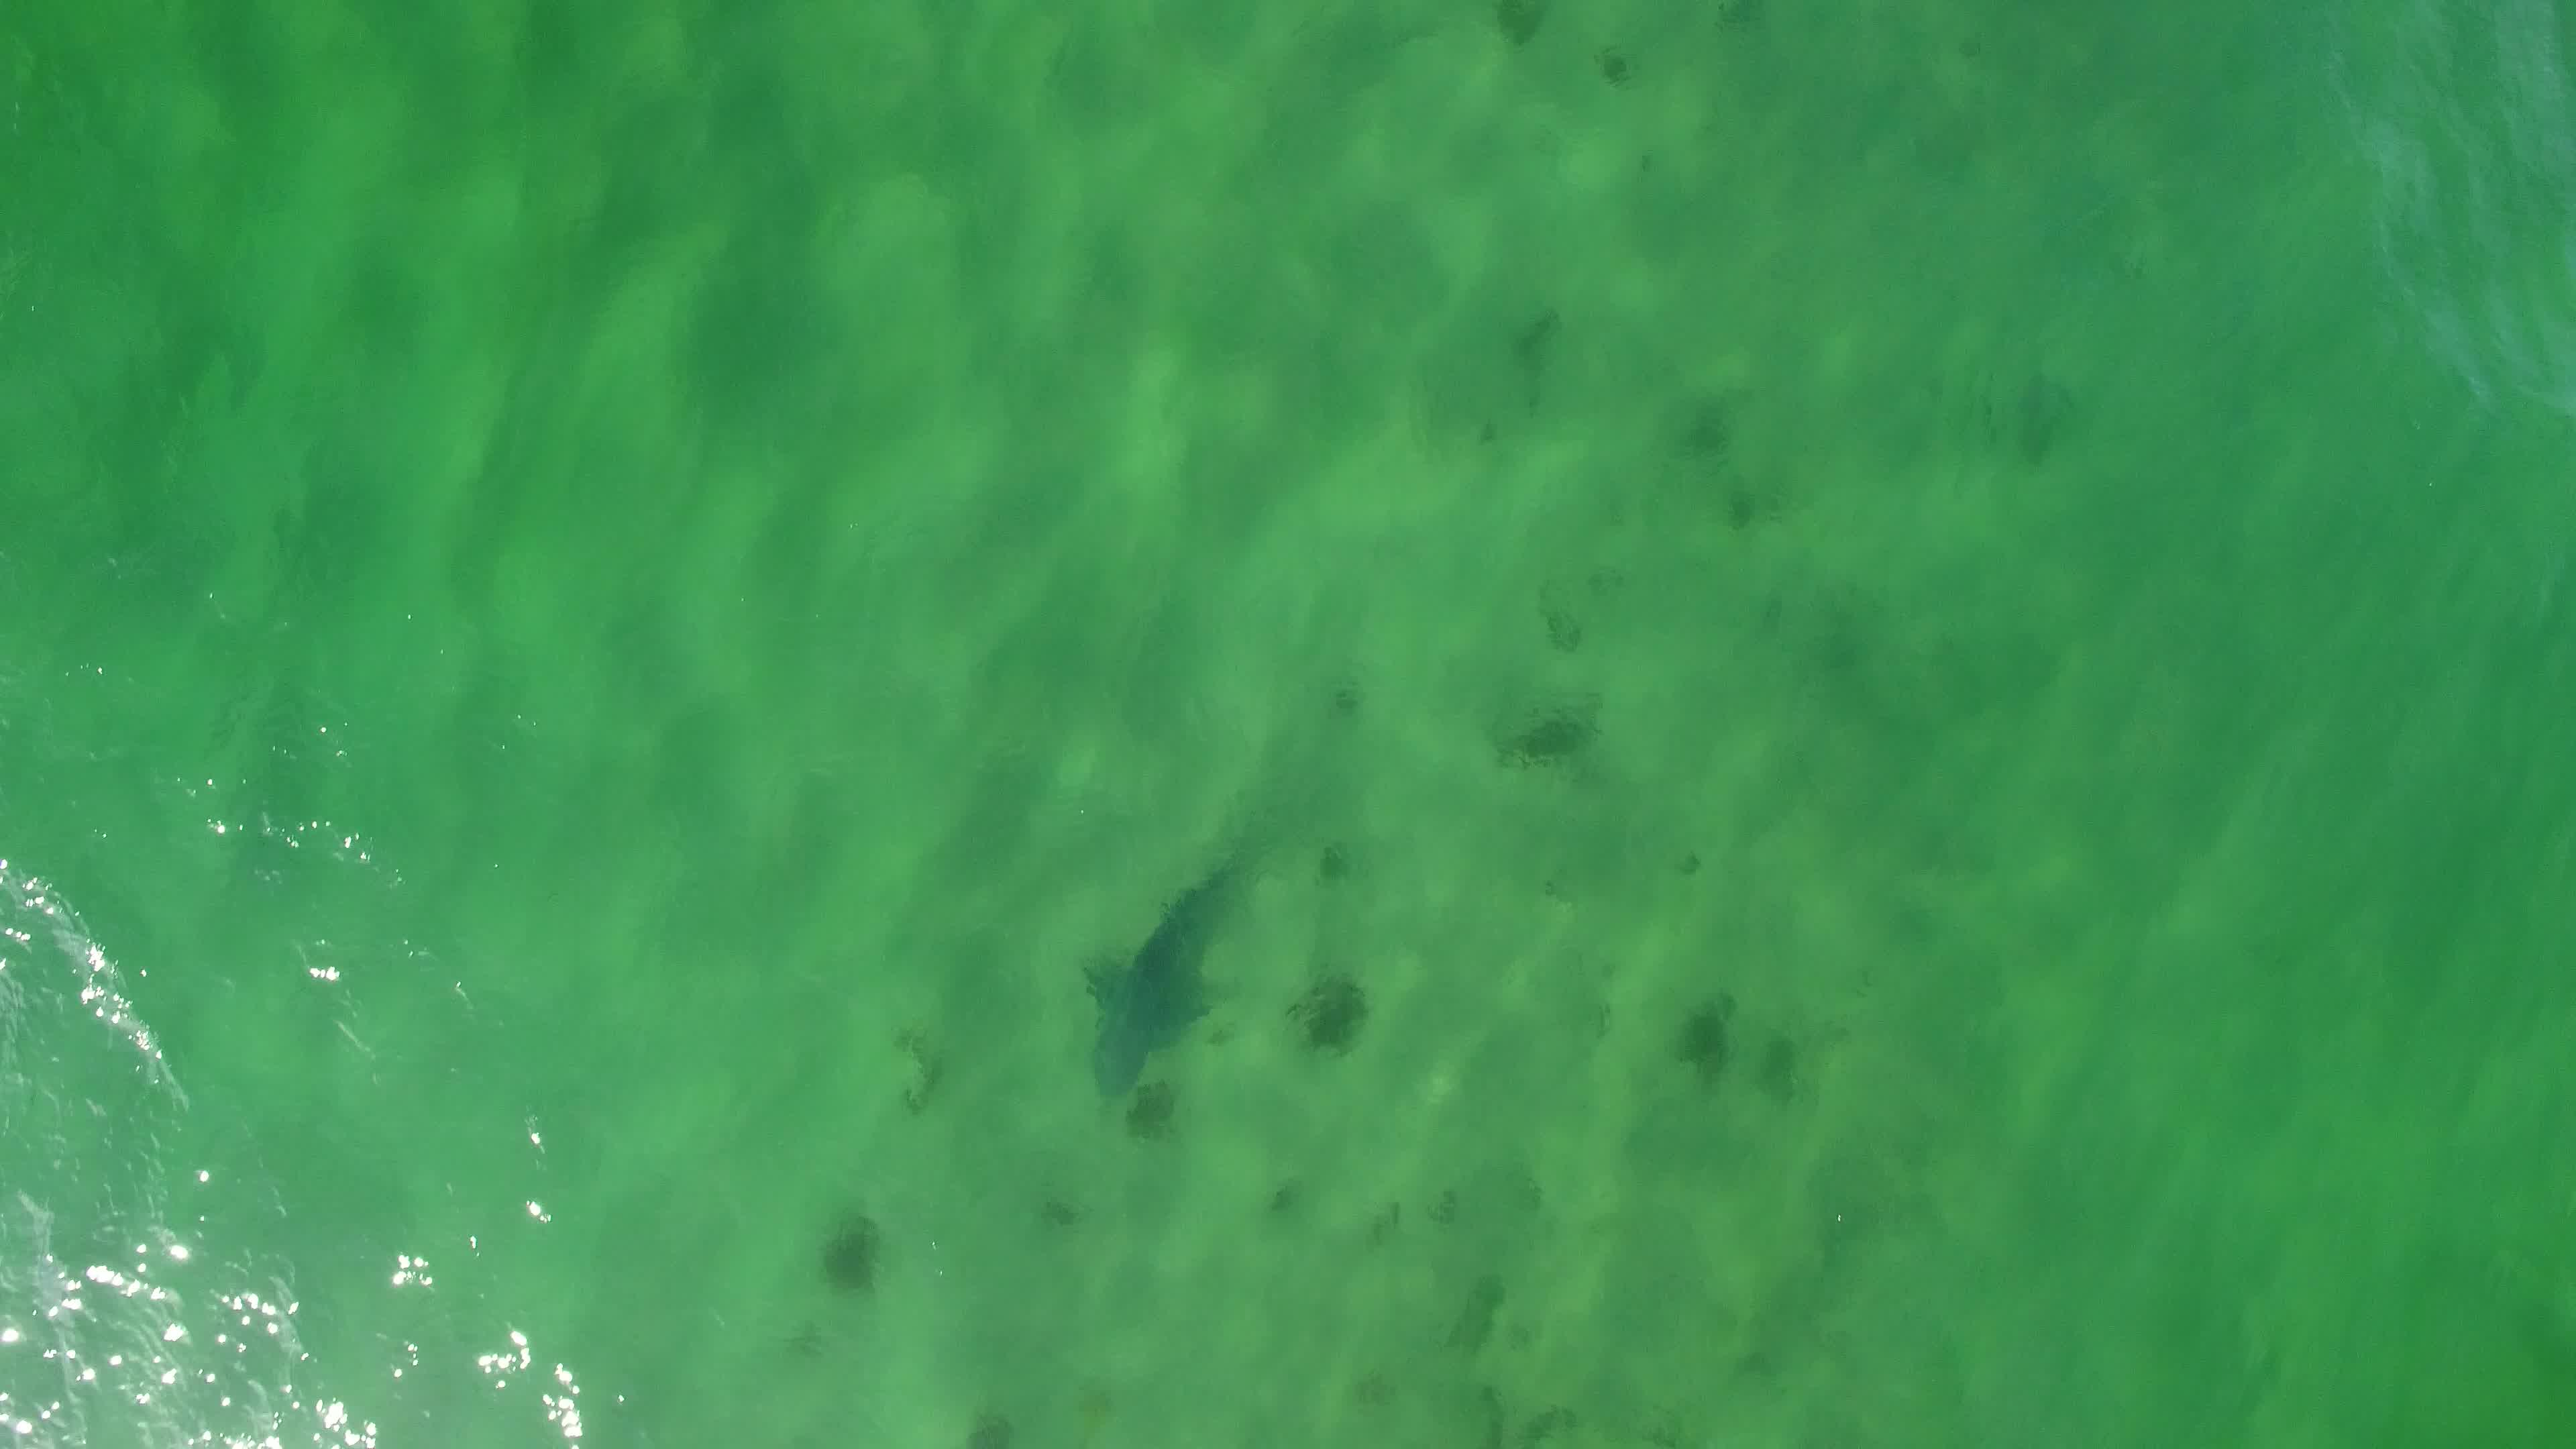shark: (1065, 835, 1246, 1097)
